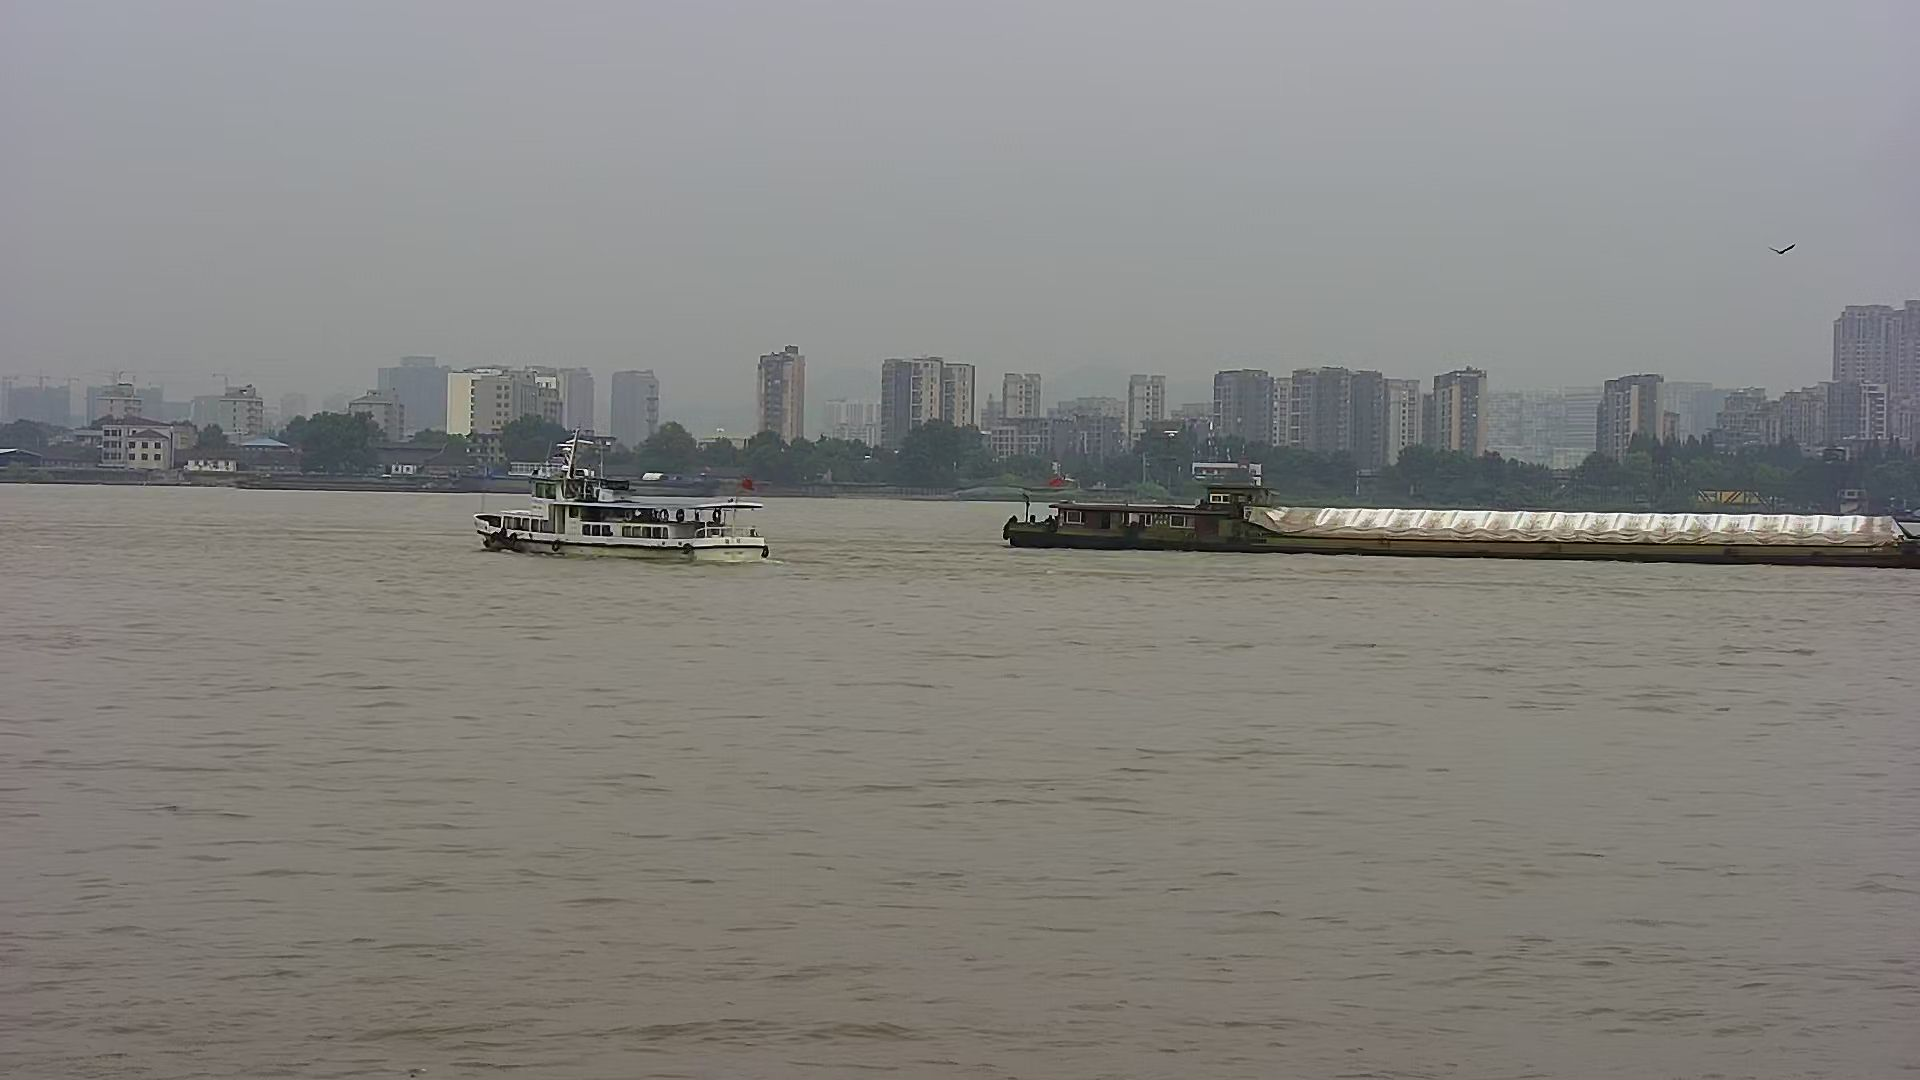ship: (992, 477, 1920, 576), (472, 436, 782, 568)
